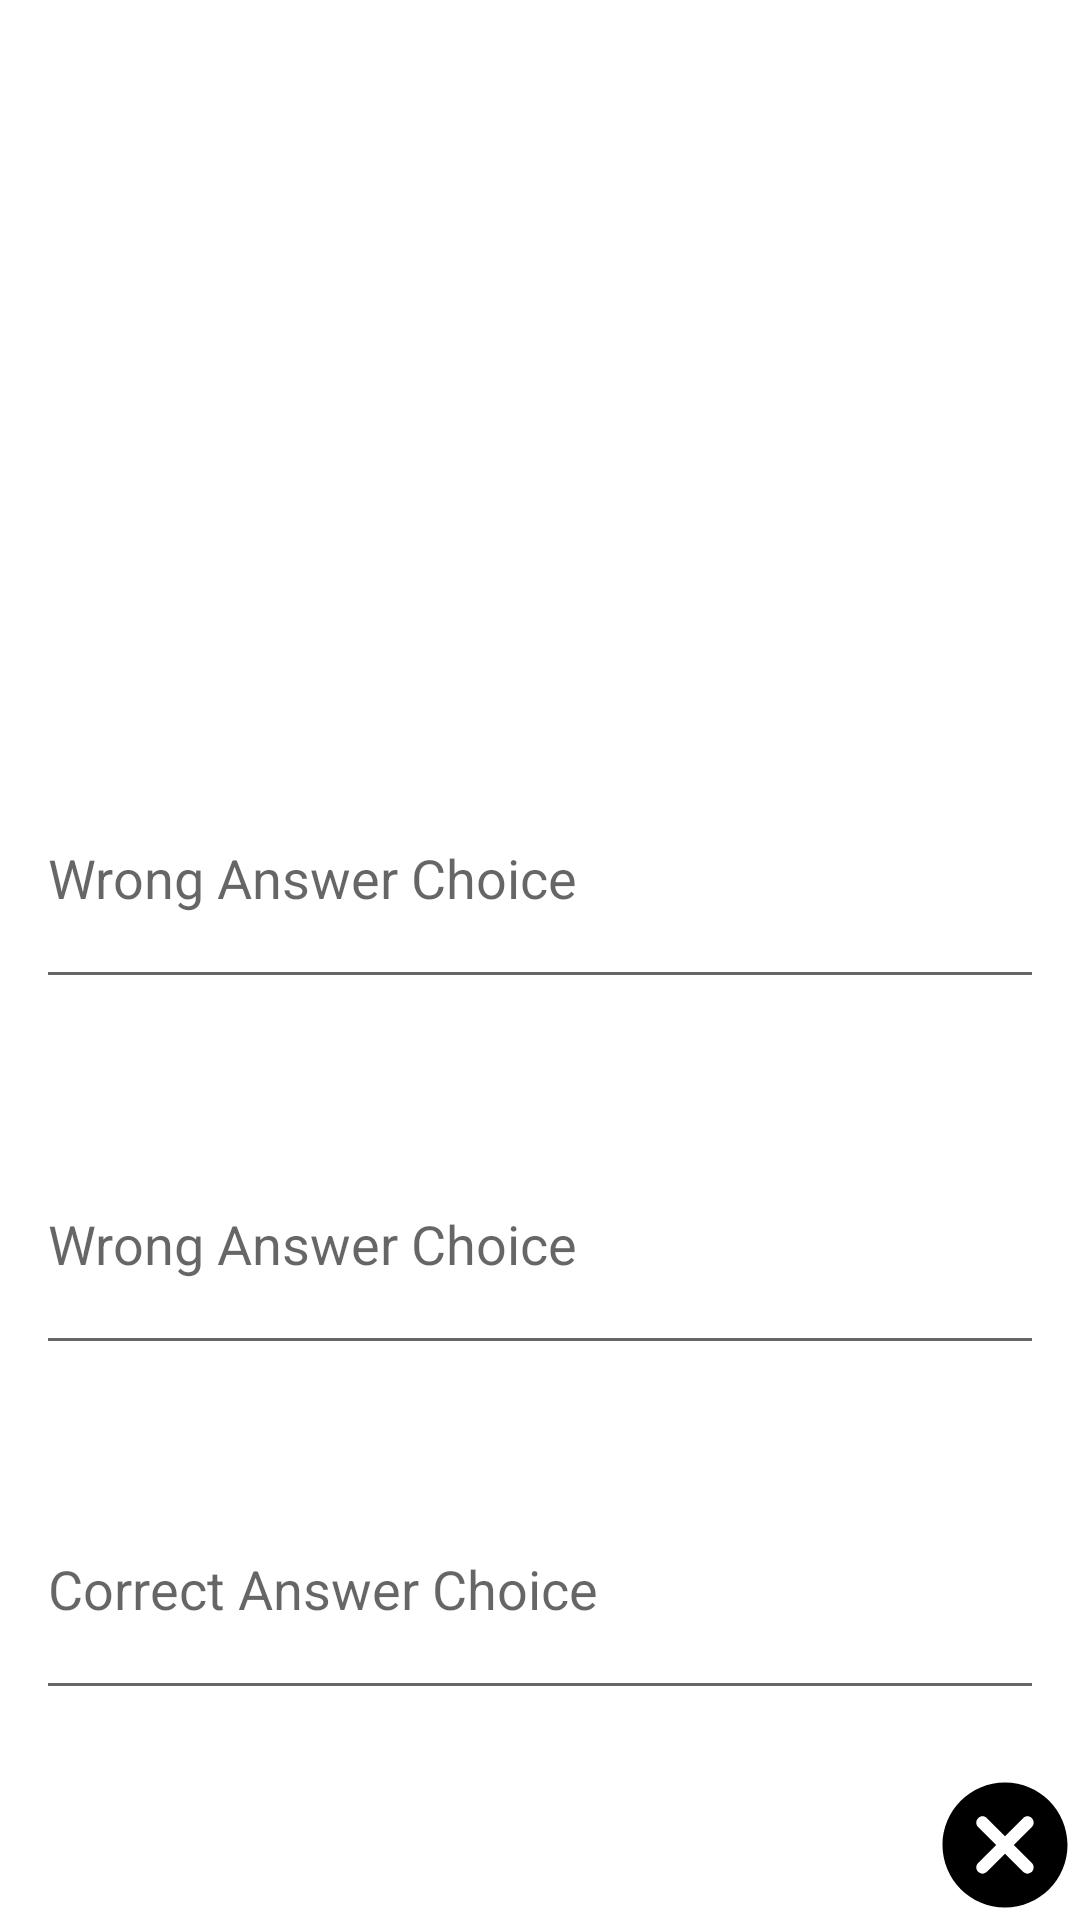

Where icons sit on this 1080w x 1920h app screen, as (x1, y1, x2, y2):
cancel: (942, 1782, 1068, 1908)
